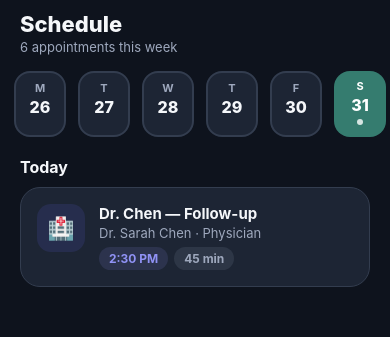
Test: ScheduleScreen › selecting a day with no appointments shows the empty state
The image size is (390, 337).
What coordinates should you click on to do the following:
click the text "26"
I would click on:
 (40, 107)
Its box is [30, 97, 50, 117].
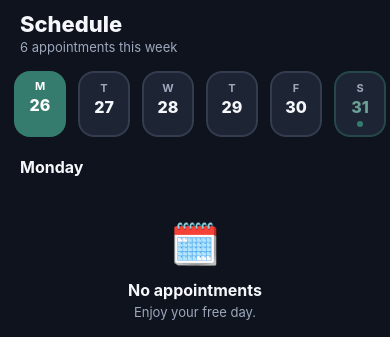
Result: the text "No appointments" is shown at [128, 280, 262, 300]
Result: the text "Enjoy your free day." is shown at [134, 304, 256, 320]
